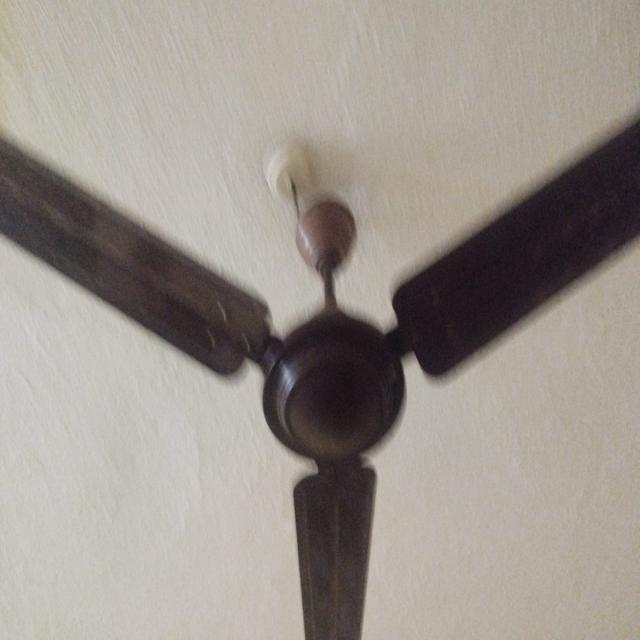fan_off: (1, 106, 640, 640)
